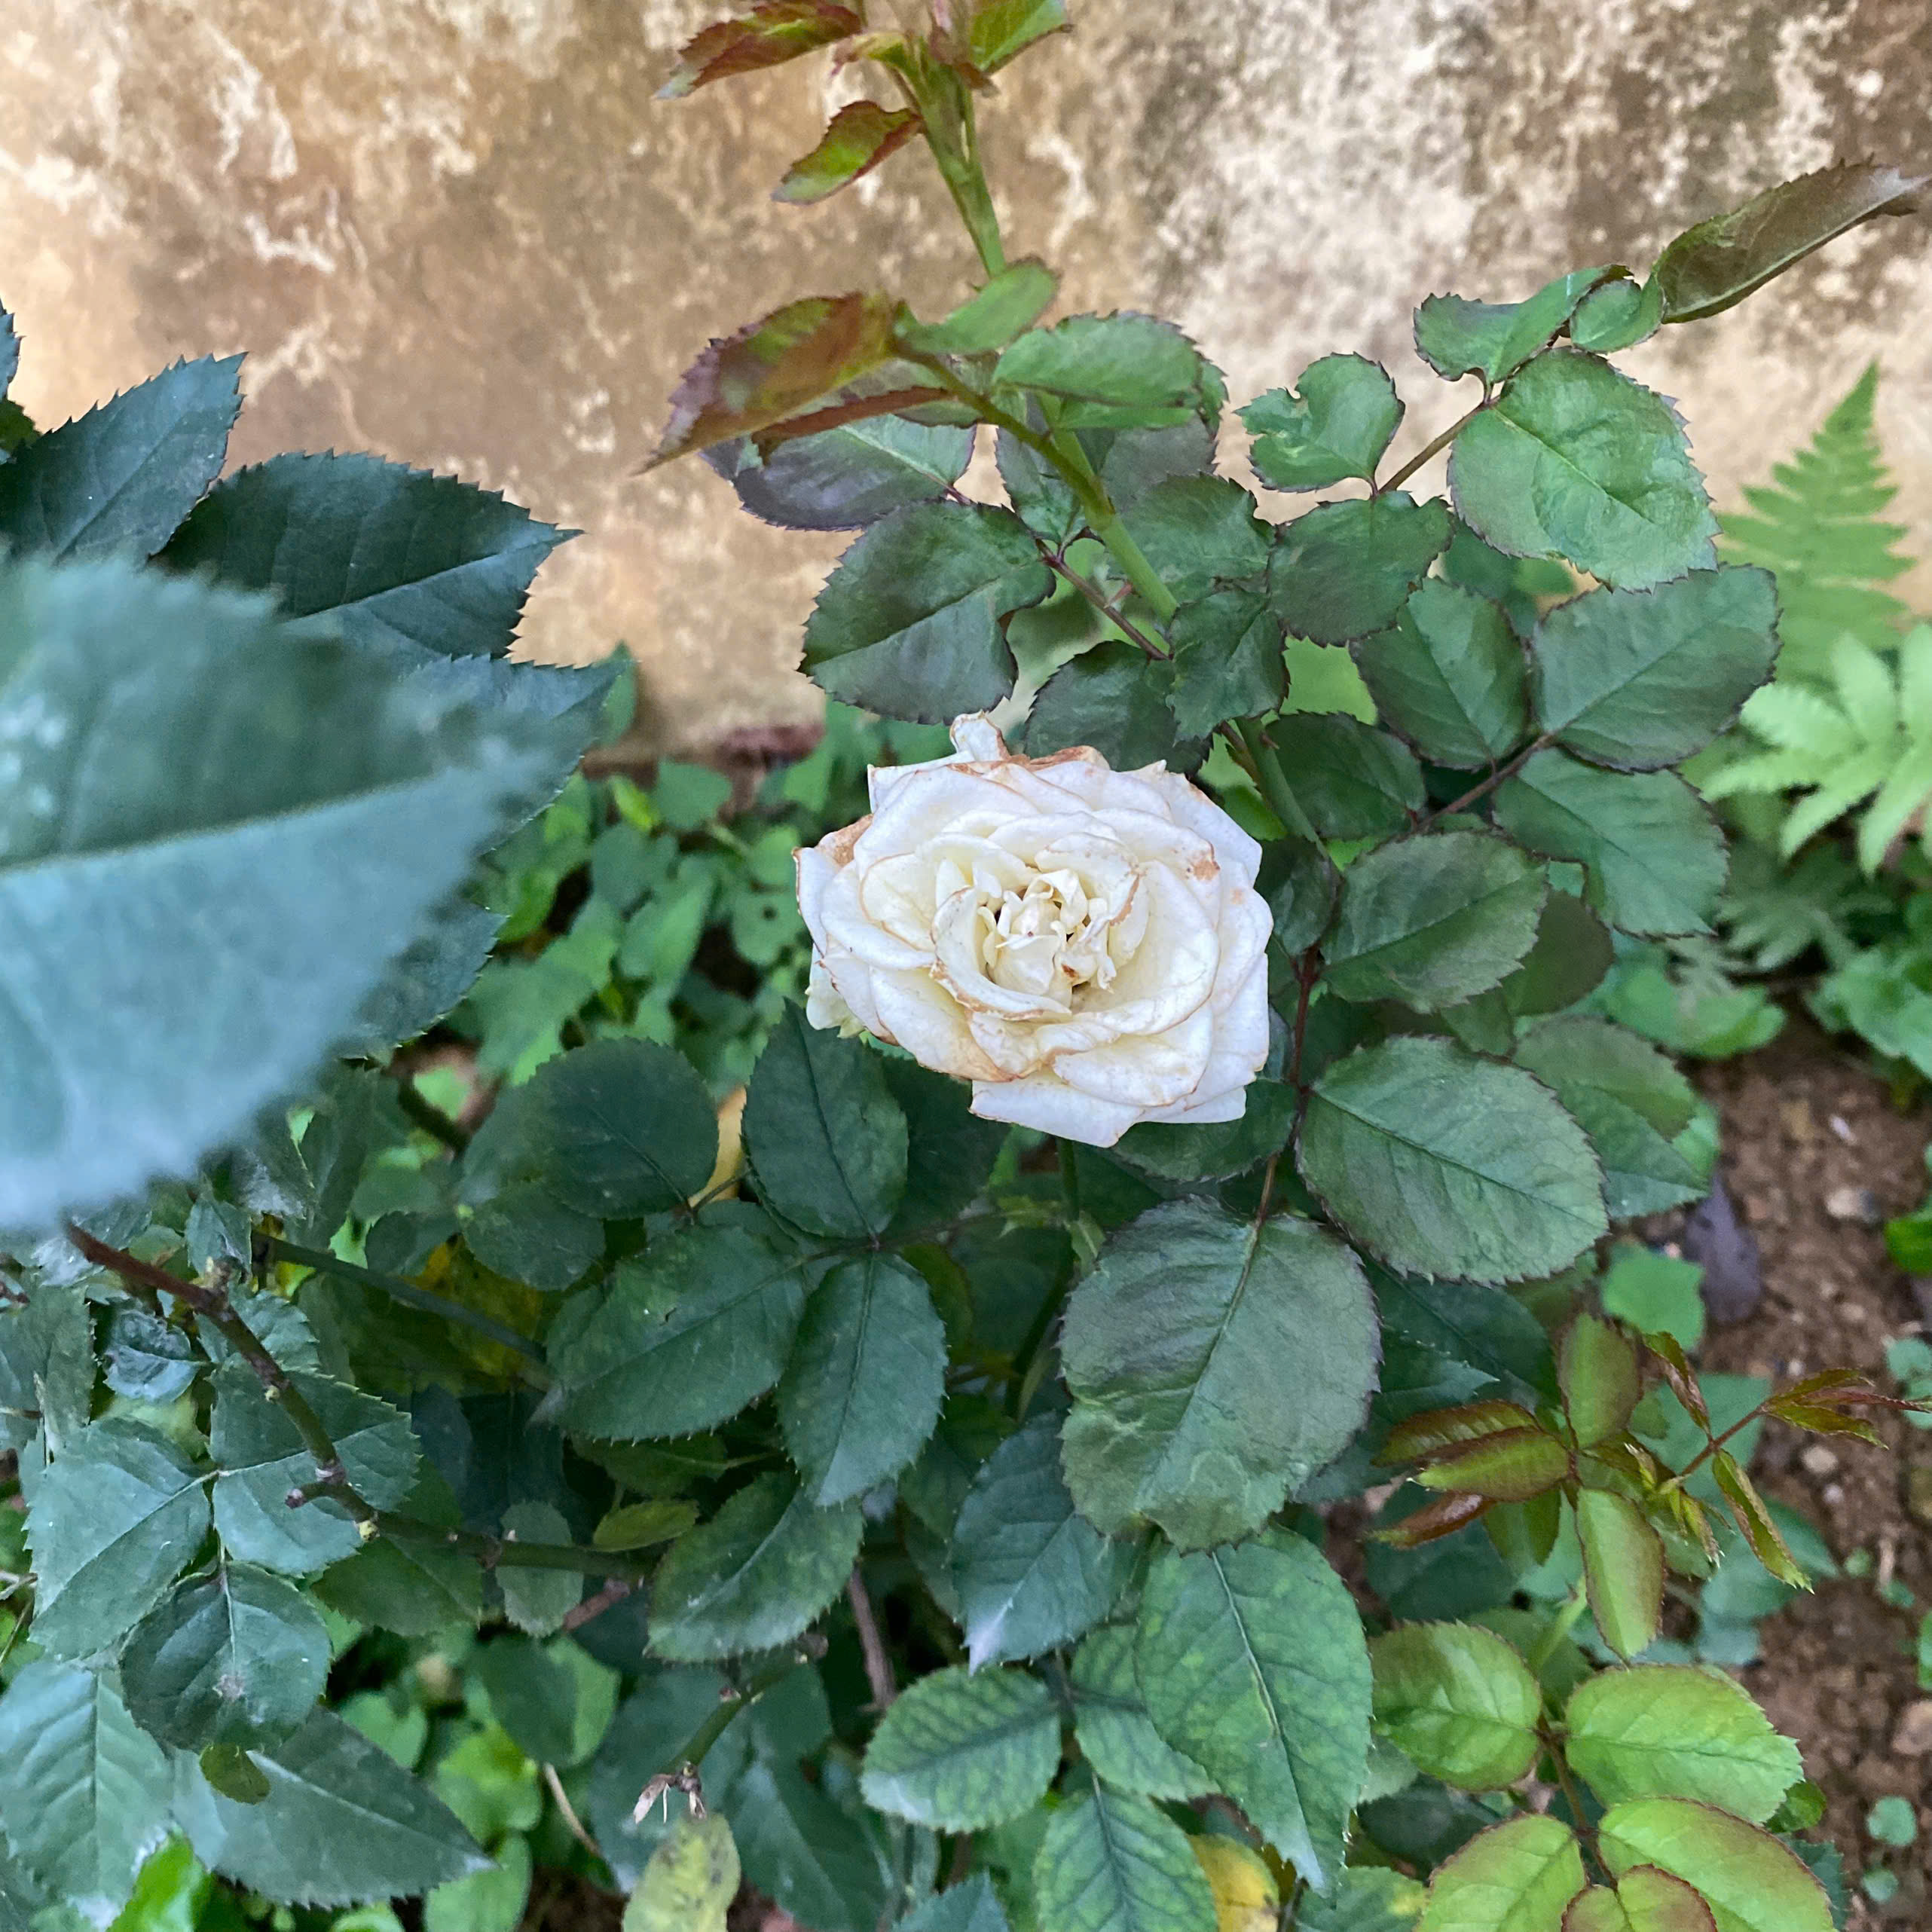hoa_thuoc_duoc: (515, 64, 1867, 1893)
